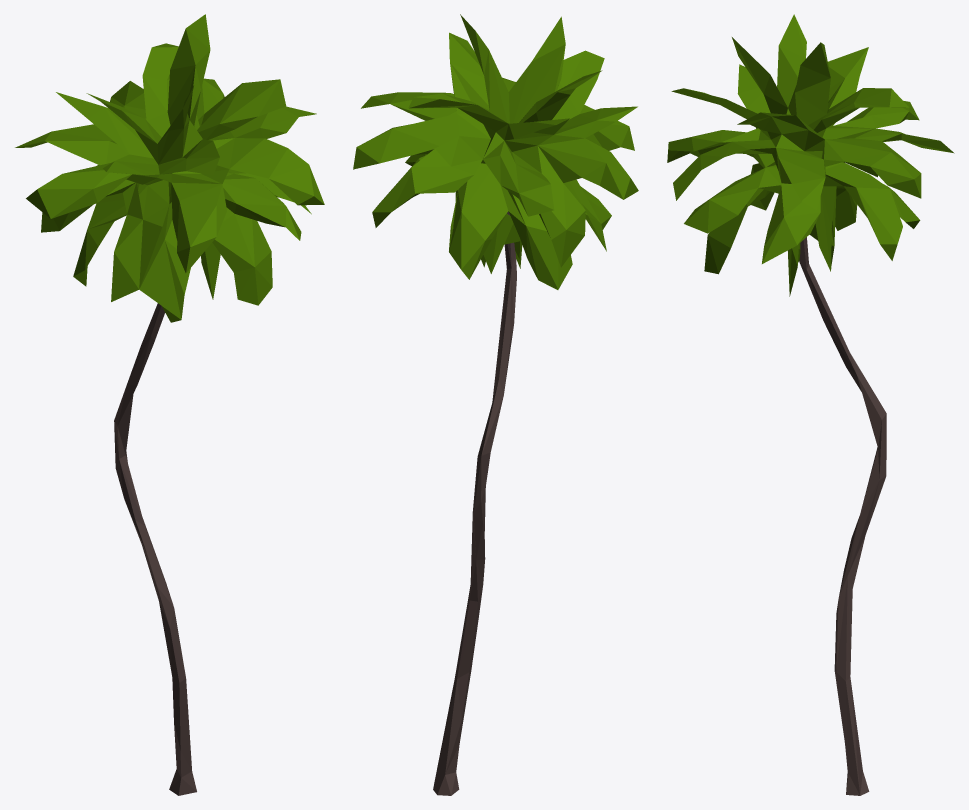
File: palm-2.glb
3 views of the same model, side by side, from view 1: azimuth 30°, elevation 25°; view 2: azimuth 150°, elevation 25°; view 3: azimuth 270°, elevation 25° (orthographic). The views are drawn at different scales.
Visible parts, largest first — view 1: PaperTrees.034; view 2: PaperTrees.034; view 3: PaperTrees.034.
Boxes of the visible parts, bbox=[...] form: PaperTrees.034: bbox=[15, 14, 324, 795]; PaperTrees.034: bbox=[353, 14, 638, 795]; PaperTrees.034: bbox=[667, 14, 954, 795].
Size of the model in its own units: 7.94 by 21.41 by 7.43.
